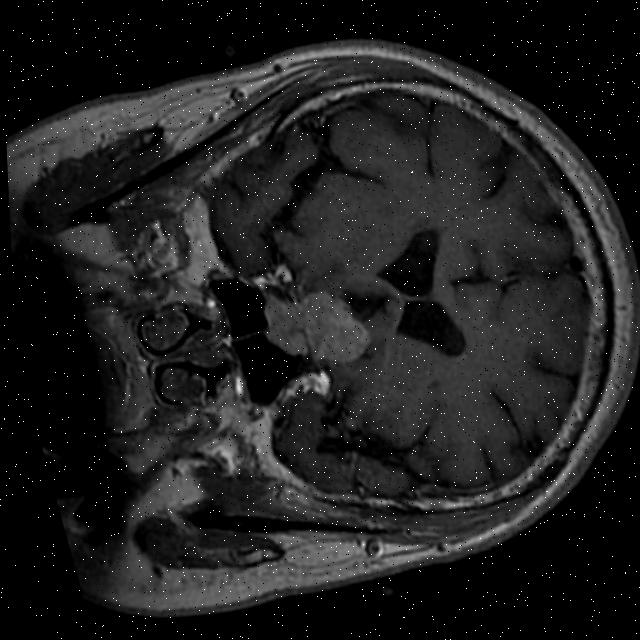Pituitary: (255, 278, 377, 380)
